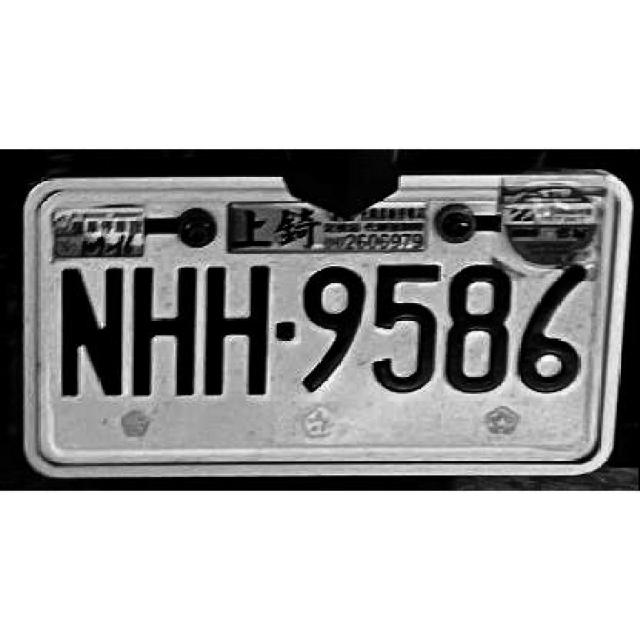-: (277, 322, 295, 342)
5: (369, 260, 442, 391)
6: (512, 255, 588, 388)
8: (441, 255, 514, 397)
9: (296, 260, 366, 395)
H: (202, 263, 270, 399), (131, 263, 198, 399)
N: (56, 261, 124, 397)
